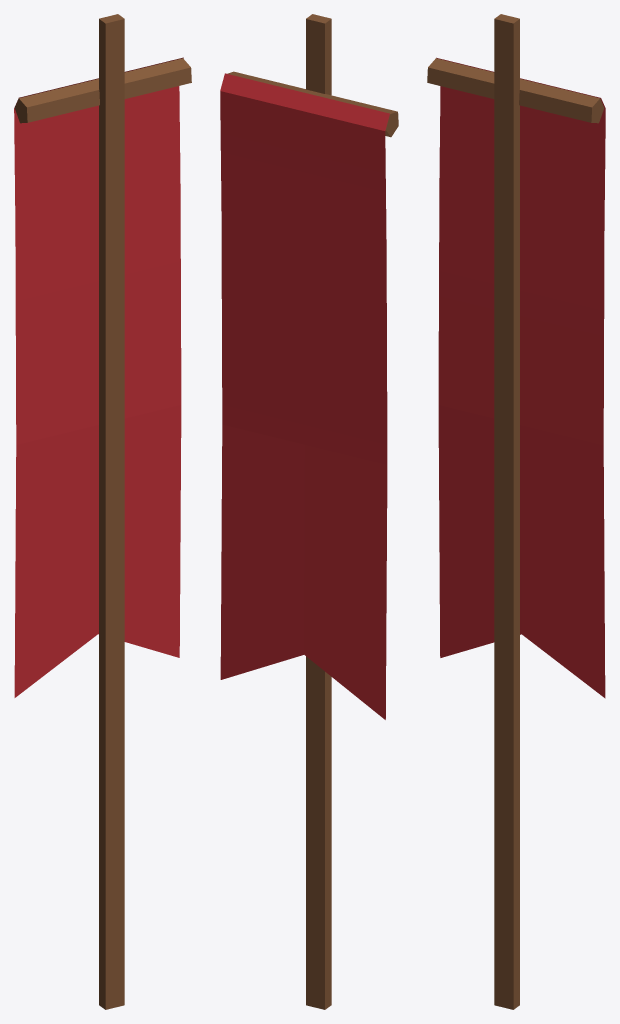
File: japan-flag-big.glb
3 views of the same model, side by side, from view 1: azimuth 30°, elevation 25°; view 2: azimuth 150°, elevation 25°; view 3: azimuth 330°, elevation 25° (orthographic).
Visible parts, largest first — view 1: japan-flag_big; view 2: japan-flag_big; view 3: japan-flag_big.
Boxes of the visible parts, x1,y1,x2,y2 form: japan-flag_big: (14,14,191,1009); japan-flag_big: (220,14,398,1009); japan-flag_big: (427,14,605,1009).
Bounding box in the file's own units: 0.8585 × 4.9 × 0.1705.
1 material, 1 textured.
